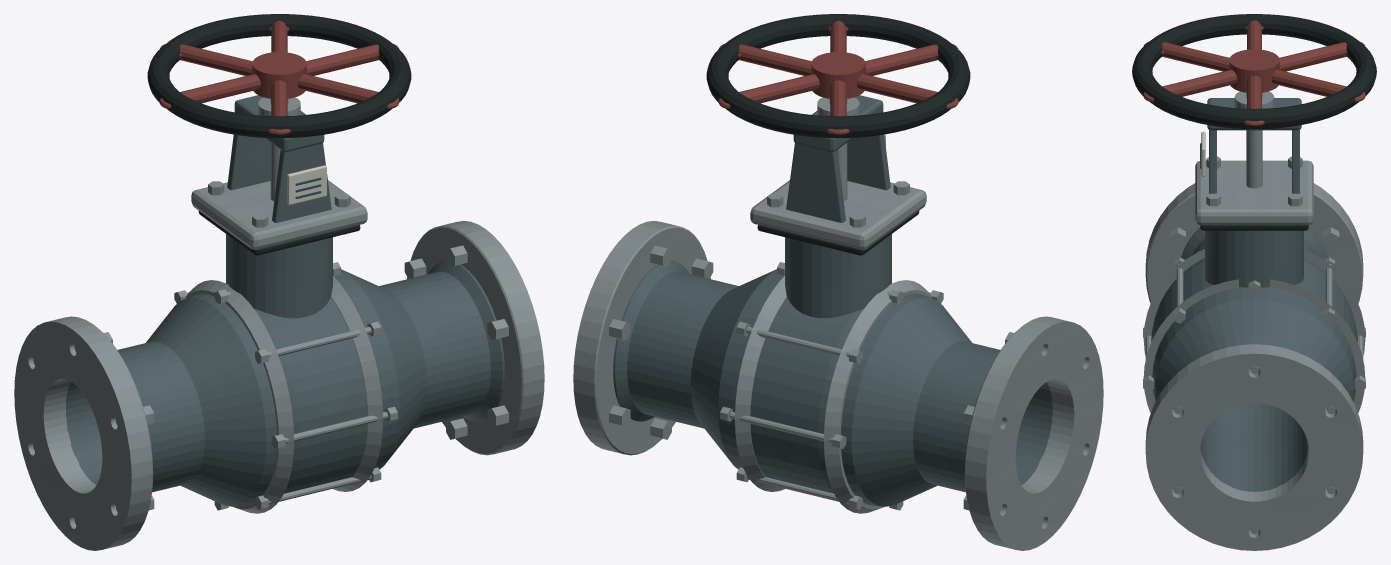
File: AST-ENG-006.glb
3 renders of one model, left to right at view 1: azimuth 30°, elevation 25°; view 2: azimuth 150°, elevation 25°; view 3: azimuth 270°, elevation 25°, orthographic. The views are drawn at different scales.
Visible parts, largest first — view 1: AST-ENG-006__static__staff_bluegrey_paint, AST-ENG-006__static__staff_zinc, AST-ENG-006__VALVE_CONTROL_WHEEL__staff_rubber, AST-ENG-006__VALVE_CONTROL_WHEEL__staff_cable_red, AST-ENG-006__static__staff_label, AST-ENG-006__static__staff_rubber; view 2: AST-ENG-006__static__staff_bluegrey_paint, AST-ENG-006__static__staff_zinc, AST-ENG-006__VALVE_CONTROL_WHEEL__staff_rubber, AST-ENG-006__VALVE_CONTROL_WHEEL__staff_cable_red, AST-ENG-006__static__staff_rubber; view 3: AST-ENG-006__static__staff_zinc, AST-ENG-006__static__staff_bluegrey_paint, AST-ENG-006__VALVE_CONTROL_WHEEL__staff_rubber, AST-ENG-006__VALVE_CONTROL_WHEEL__staff_cable_red, AST-ENG-006__static__staff_rubber.
Part boxes in pixels (bbox=[...]): AST-ENG-006__static__staff_bluegrey_paint: bbox=[66, 95, 504, 506]; AST-ENG-006__static__staff_zinc: bbox=[14, 97, 544, 550]; AST-ENG-006__VALVE_CONTROL_WHEEL__staff_rubber: bbox=[147, 14, 411, 138]; AST-ENG-006__VALVE_CONTROL_WHEEL__staff_cable_red: bbox=[159, 20, 399, 135]; AST-ENG-006__static__staff_label: bbox=[287, 165, 326, 205]; AST-ENG-006__static__staff_rubber: bbox=[198, 211, 360, 255]; AST-ENG-006__static__staff_bluegrey_paint: bbox=[613, 95, 1052, 506]; AST-ENG-006__static__staff_zinc: bbox=[573, 97, 1103, 550]; AST-ENG-006__VALVE_CONTROL_WHEEL__staff_rubber: bbox=[706, 14, 970, 138]; AST-ENG-006__VALVE_CONTROL_WHEEL__staff_cable_red: bbox=[718, 20, 958, 135]; AST-ENG-006__static__staff_rubber: bbox=[757, 211, 919, 255]; AST-ENG-006__static__staff_zinc: bbox=[1143, 91, 1365, 550]; AST-ENG-006__static__staff_bluegrey_paint: bbox=[1151, 98, 1357, 491]; AST-ENG-006__VALVE_CONTROL_WHEEL__staff_rubber: bbox=[1132, 14, 1376, 129]; AST-ENG-006__VALVE_CONTROL_WHEEL__staff_cable_red: bbox=[1143, 20, 1365, 126]; AST-ENG-006__static__staff_rubber: bbox=[1200, 225, 1308, 230].
Bounding box in the file's own units: 0.65 × 0.65 × 0.36.
Materials: 6 (6 with a texture image).
